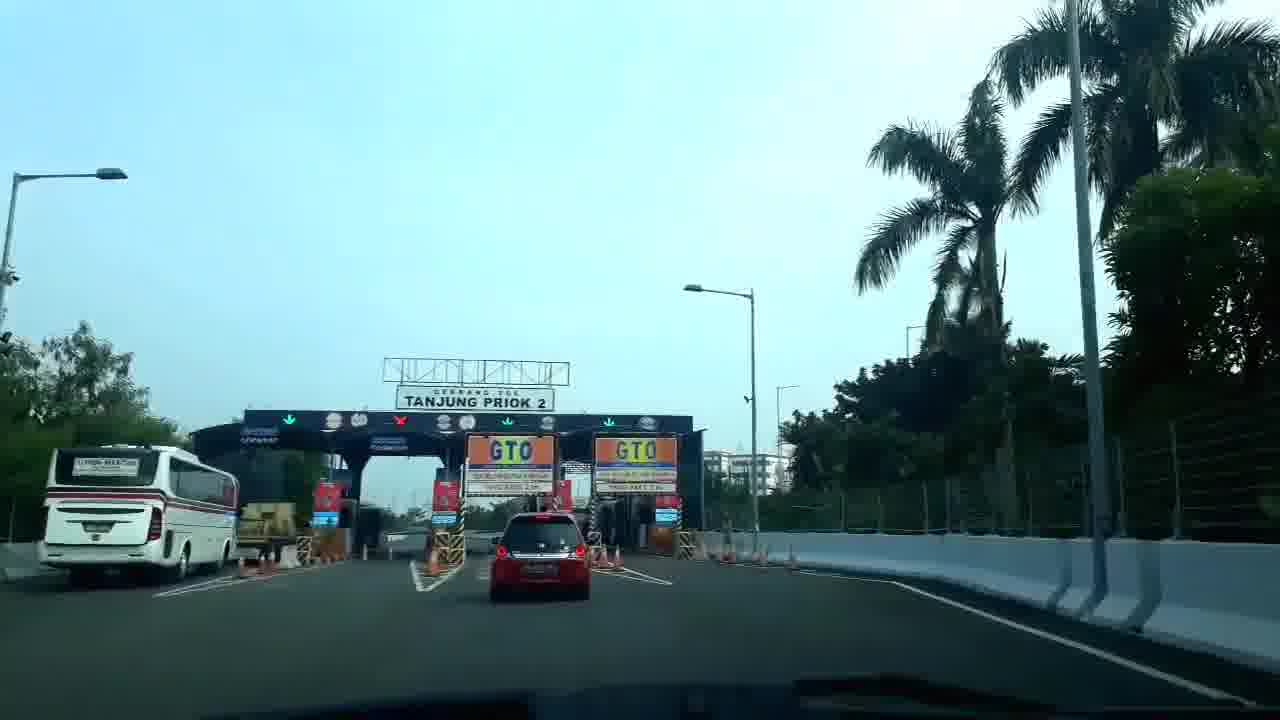plate_positive: (521, 564, 559, 576)
